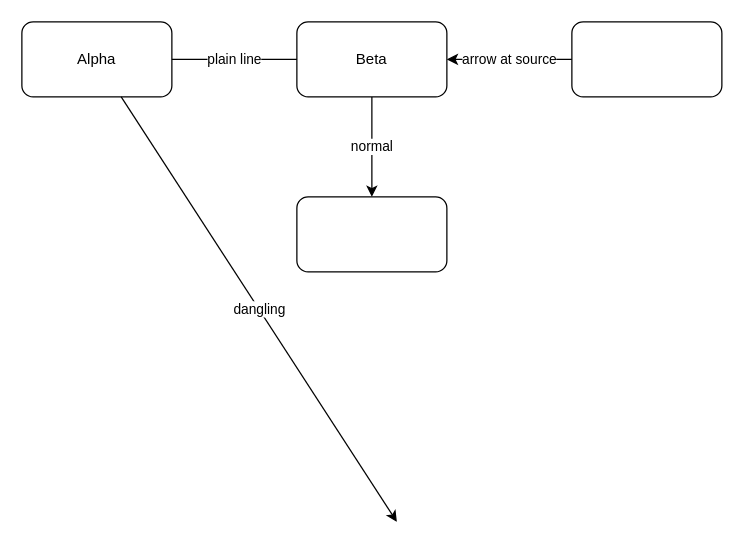
The diagram is 744 pixels wide and 554 high, and some of its shapes have lost their labels. Each missing label, with the box of its shape:
Delta: (296, 196, 447, 272)
Gamma: (571, 21, 722, 97)
